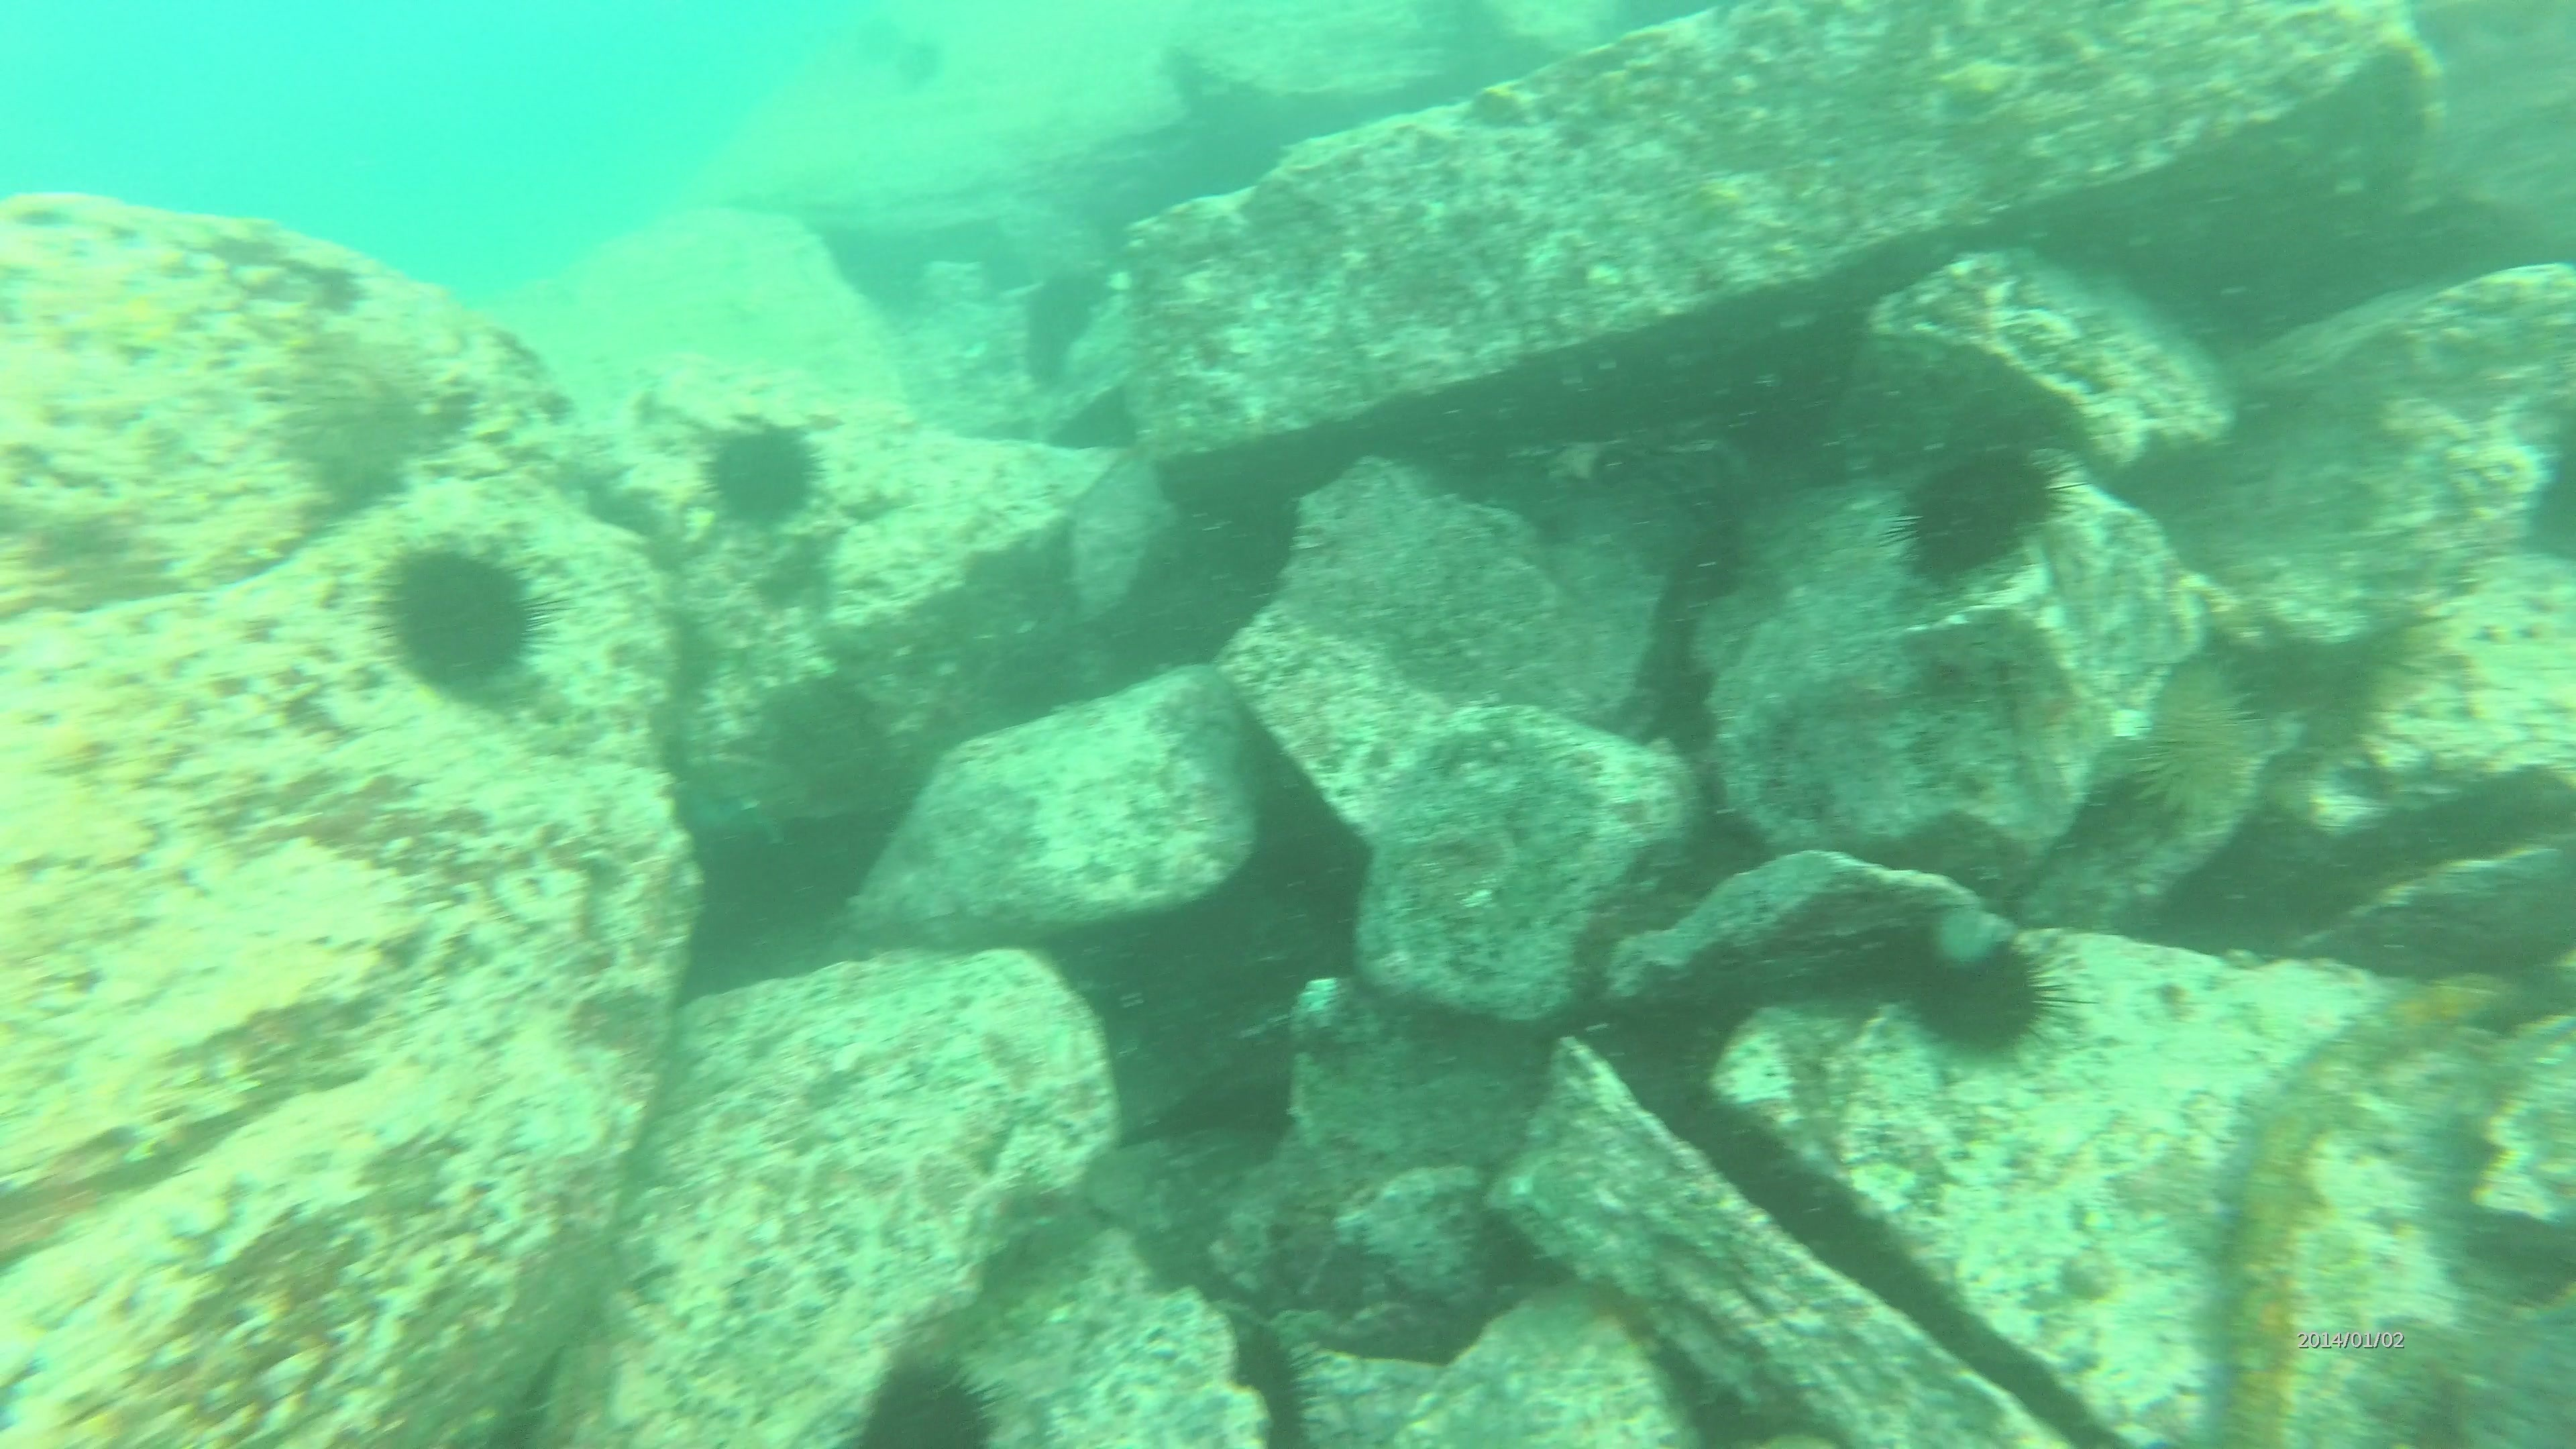echinus: (364, 533, 557, 704), (1888, 433, 2077, 589), (2123, 651, 2272, 842), (1898, 927, 2075, 1067), (1212, 1306, 1330, 1447), (694, 414, 828, 534), (849, 1350, 1010, 1442)
